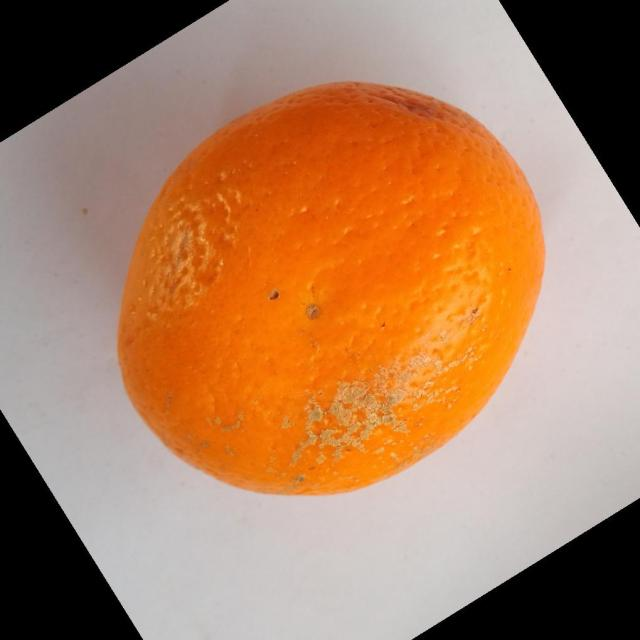fresh orange: (115, 79, 546, 497)
